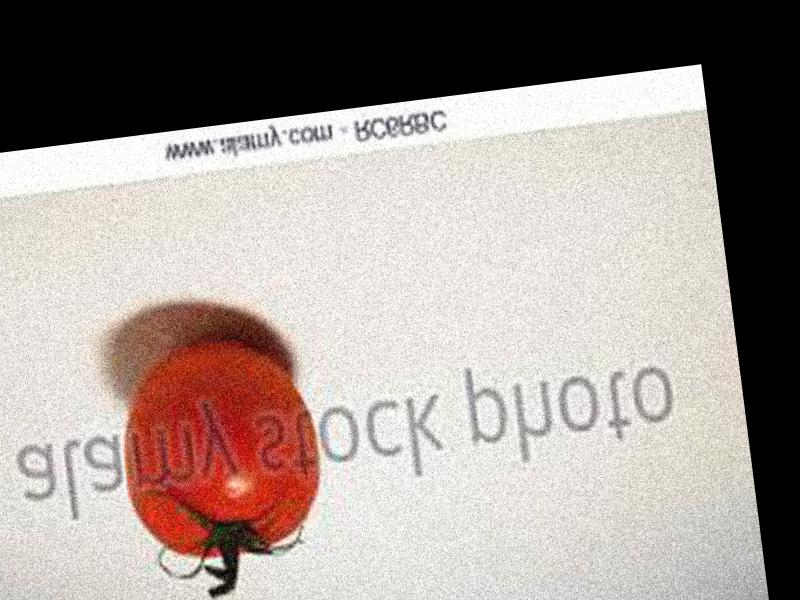Tomato: (111, 331, 331, 570)
